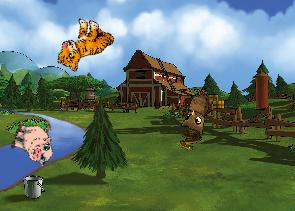owl: (180, 87, 208, 134)
pig: (7, 118, 58, 167)
tiger: (53, 12, 117, 80)
